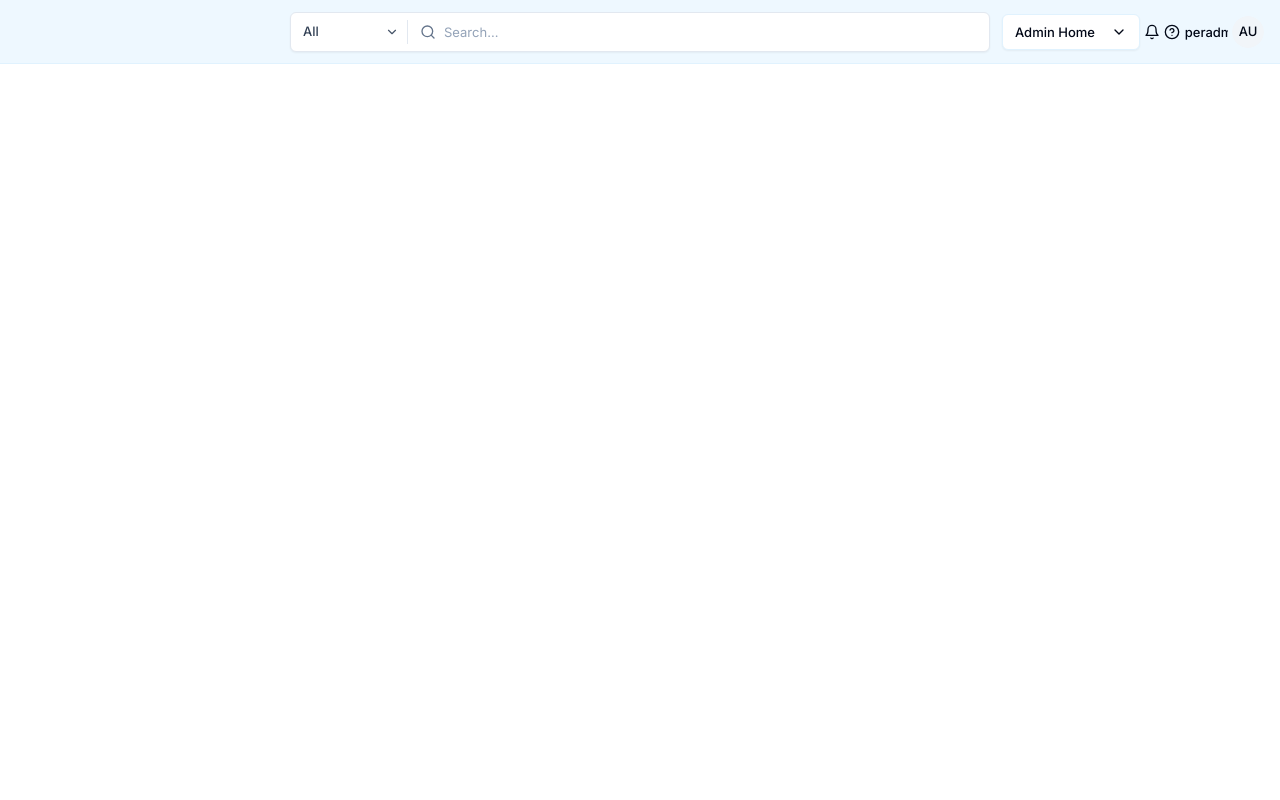
Scenario: Header admin home refresh › opens logged-in user details from the profile name
Click the button "Superadmin": click(1206, 32) x1=1184 y1=16 x2=1228 y2=48
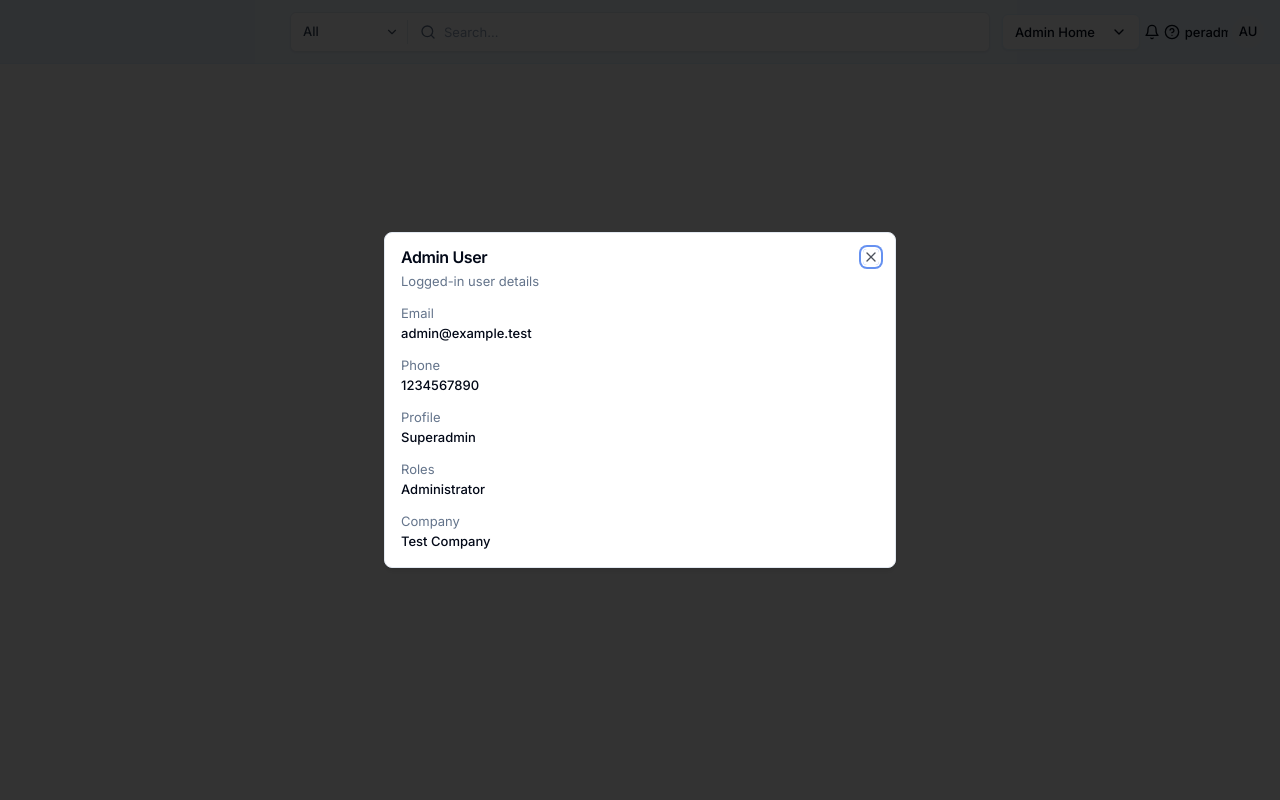
expect the dialog is shown: met, box x1=384 y1=232 x2=896 y2=568
expect the heading "Admin User" is shown: met, box x1=401 y1=247 x2=487 y2=267
expect the text "admin@example.test" is shown: met, box x1=401 y1=325 x2=532 y2=341
